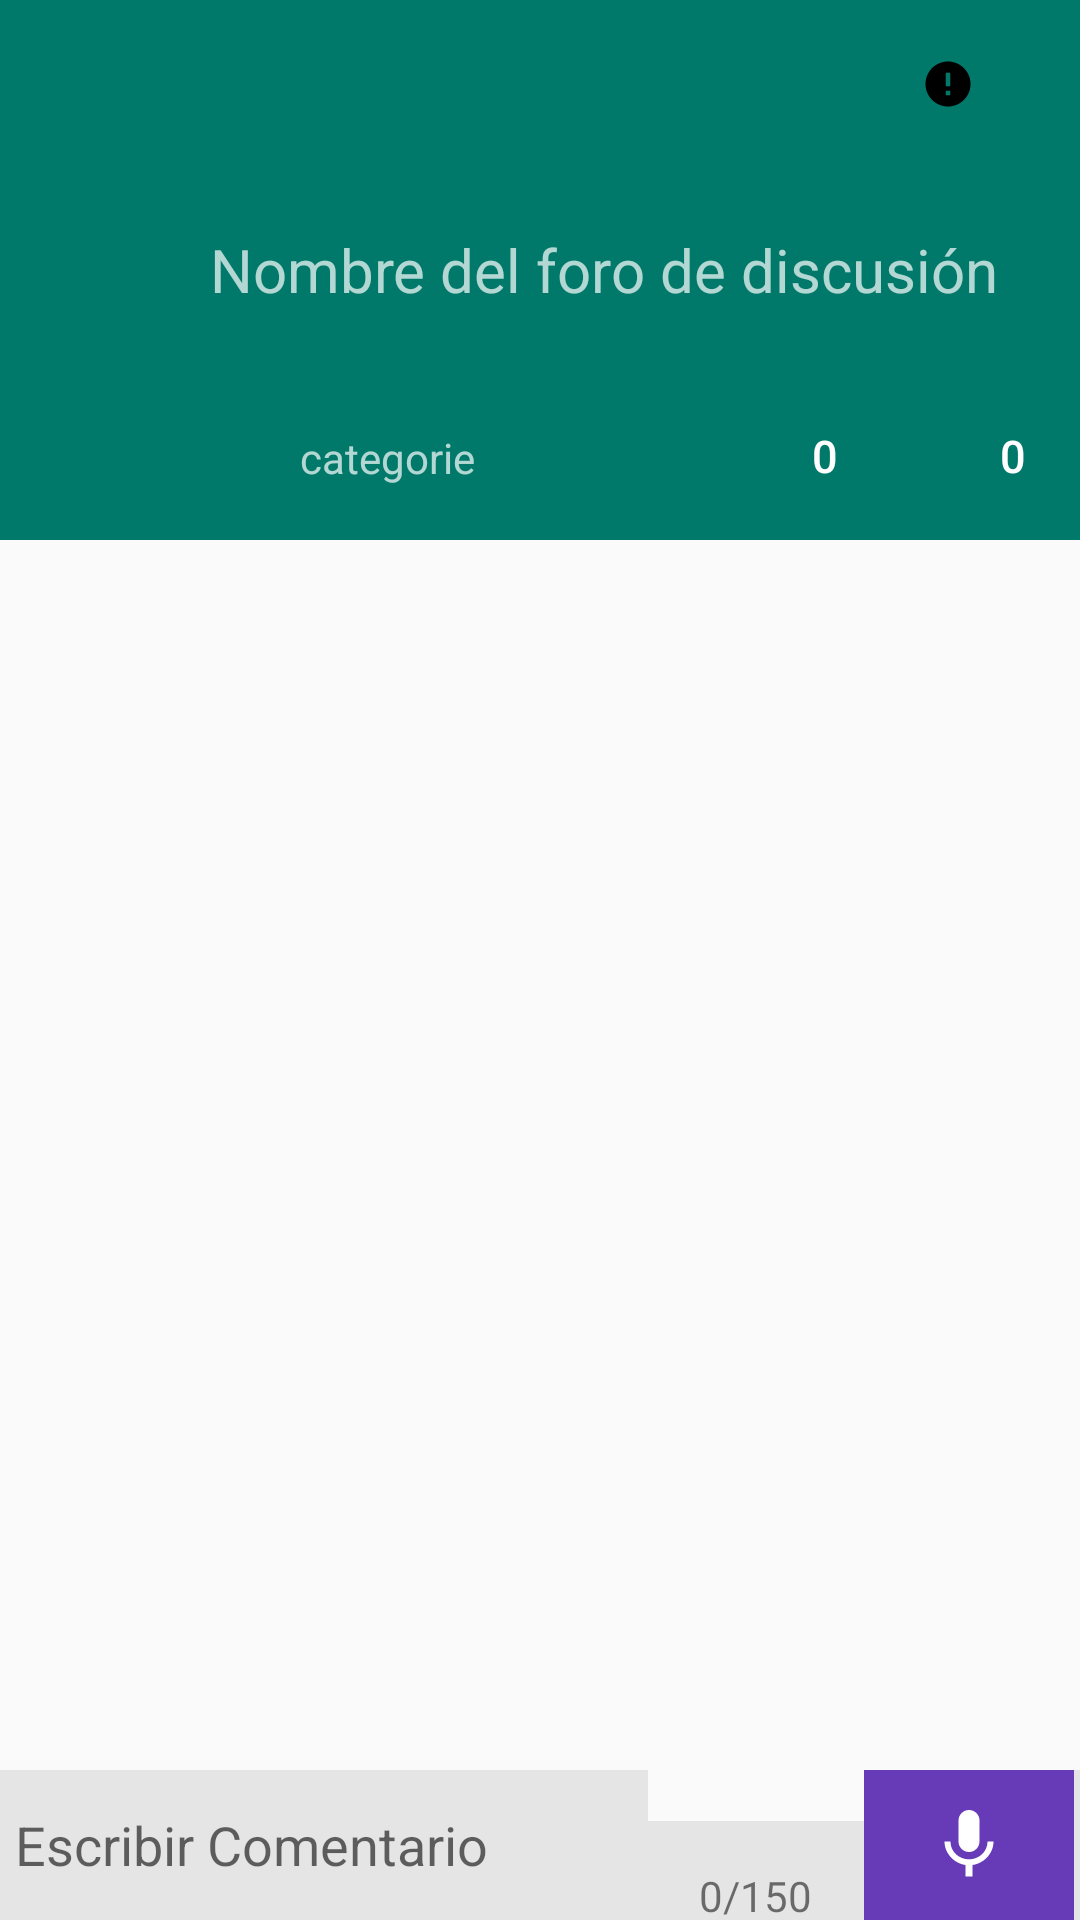

Where icons sit on this 1080px×1920px app screen, as rect(x1, y1, x2, y2):
error: rect(925, 61, 971, 107)
